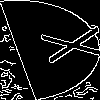X: (24, 25, 100, 68)
